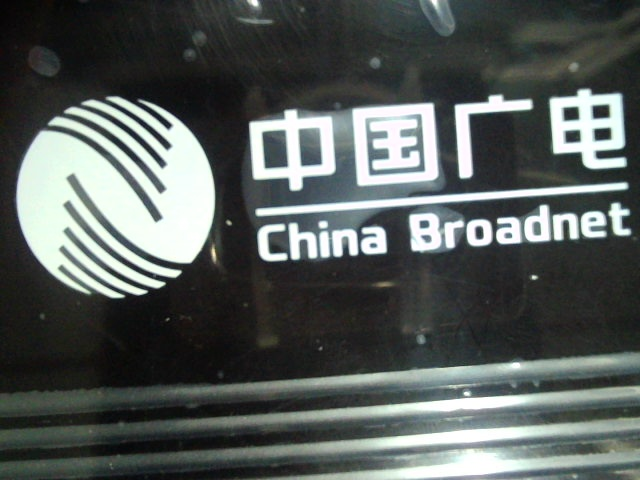AW_ChinaBroadNet: (10, 76, 633, 307)
